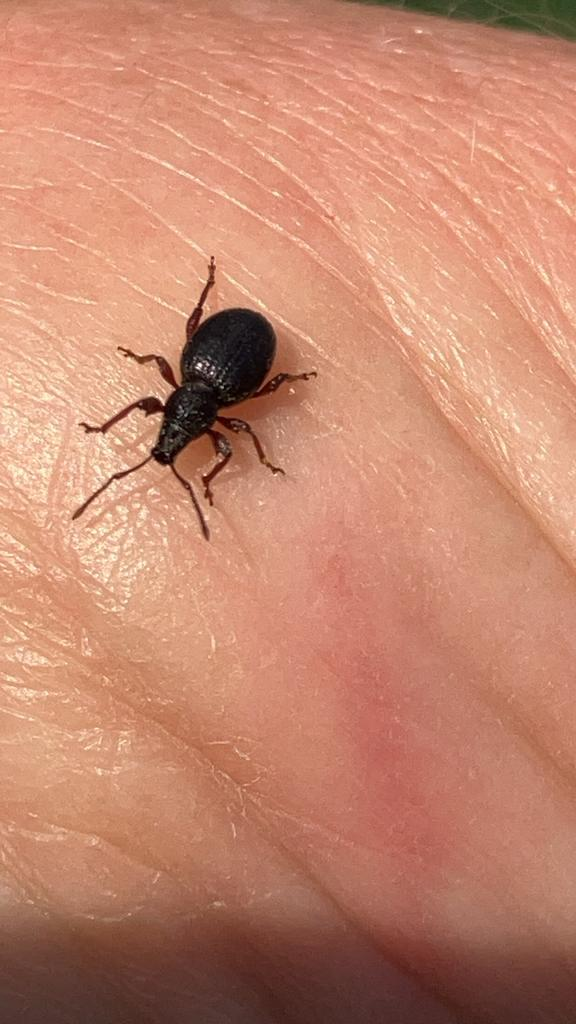weevils: (33, 216, 387, 580)
